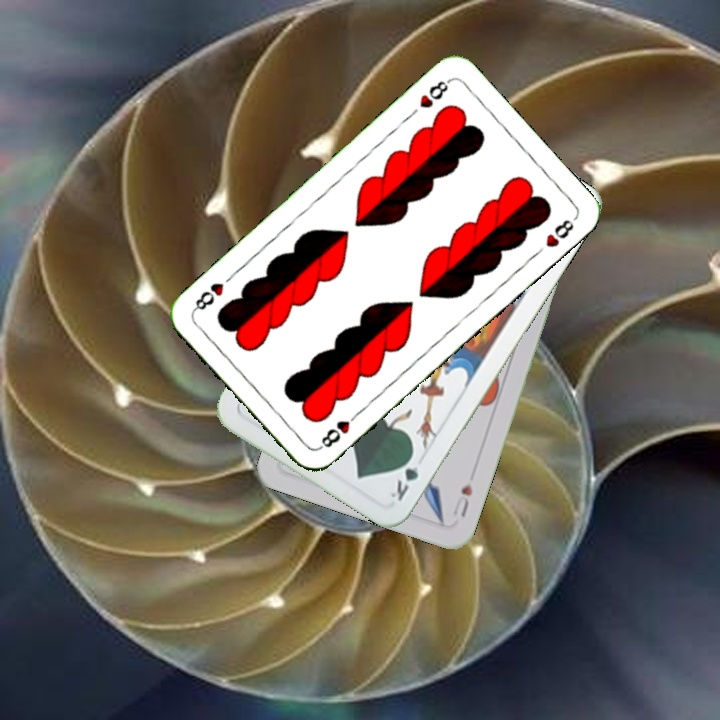GK: (386, 448, 423, 504)
H8: (315, 407, 363, 452), (415, 75, 453, 111)
HU: (449, 479, 475, 520)
